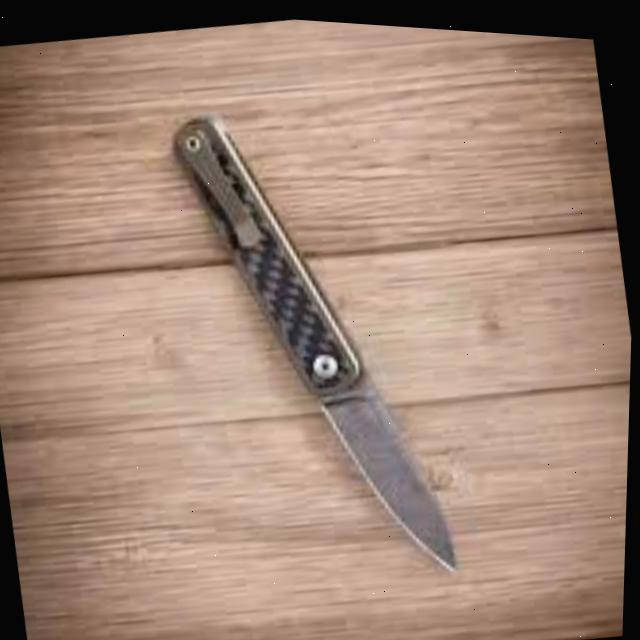Knife: (155, 76, 472, 600)
